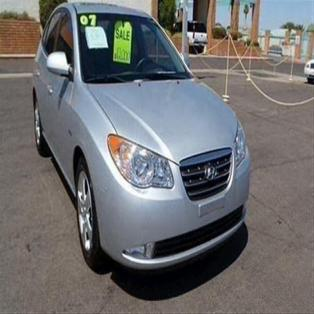Auto: (30, 1, 251, 274)
